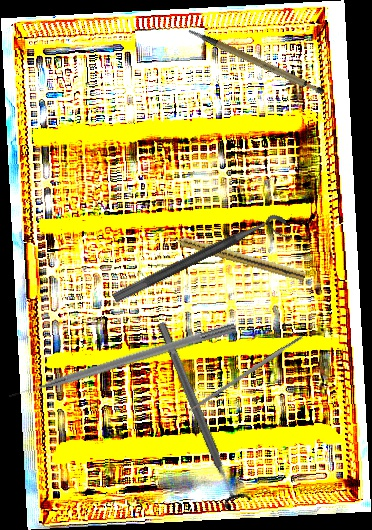Fixation Ring: (147, 317, 253, 511), (111, 210, 293, 318)
Handpiece: (164, 229, 307, 282)
Pusher: (6, 319, 237, 402)
Scalpel Handle: (188, 8, 326, 112), (187, 334, 305, 414)
